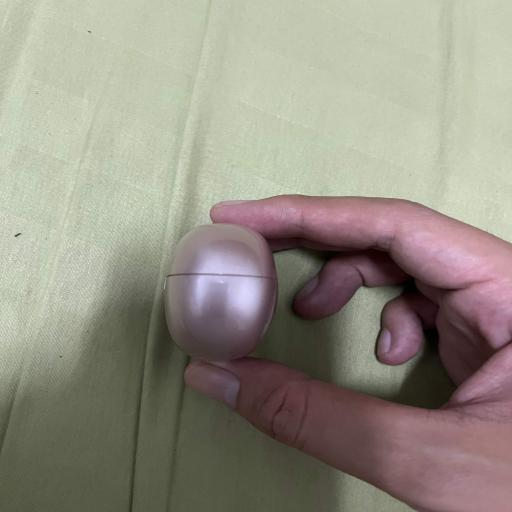GOOJODOQ: (165, 224, 277, 360)
